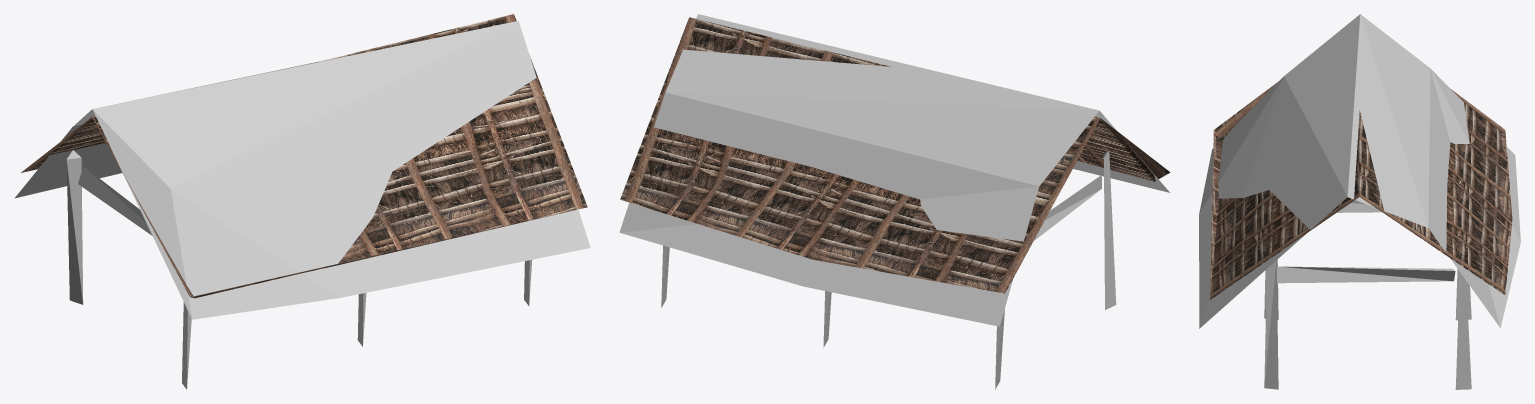
File: Shelter_1_LOD4.fbx
3 renders of one model, left to right at view 1: azimuth 30°, elevation 25°; view 2: azimuth 150°, elevation 25°; view 3: azimuth 270°, elevation 25°, orthographic. The views are drawn at different scales.
Visible parts, largest first — view 1: Alphas, Roof, Wood; view 2: Alphas, Roof, Wood; view 3: Alphas, Roof, Wood.
Boxes of the visible parts, left/top/right/bottom form: Alphas: left=15, top=21, right=590, bottom=319; Roof: left=21, top=14, right=587, bottom=298; Wood: left=66, top=150, right=532, bottom=389; Alphas: left=619, top=14, right=1169, bottom=326; Roof: left=620, top=17, right=1170, bottom=293; Wood: left=661, top=151, right=1116, bottom=389; Alphas: left=1199, top=14, right=1520, bottom=328; Roof: left=1210, top=81, right=1512, bottom=299; Wood: left=1264, top=187, right=1471, bottom=389.
Size of the model in its own units: 1777 by 1366 by 1005.
